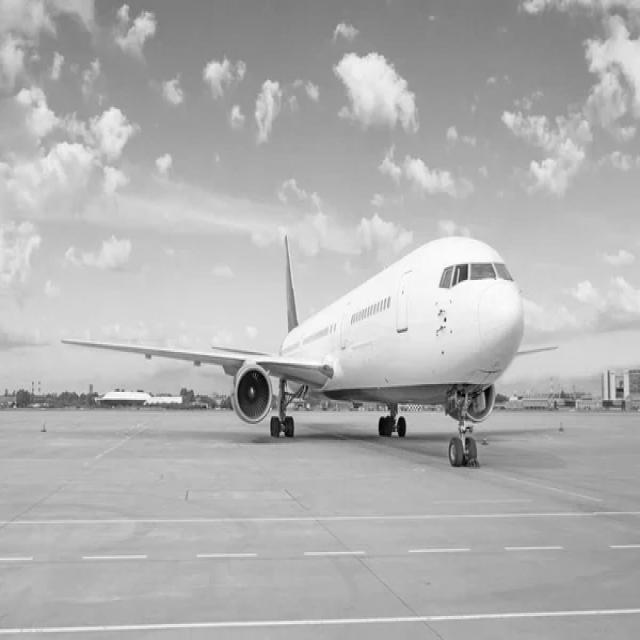Aircraft: (65, 219, 590, 471)
